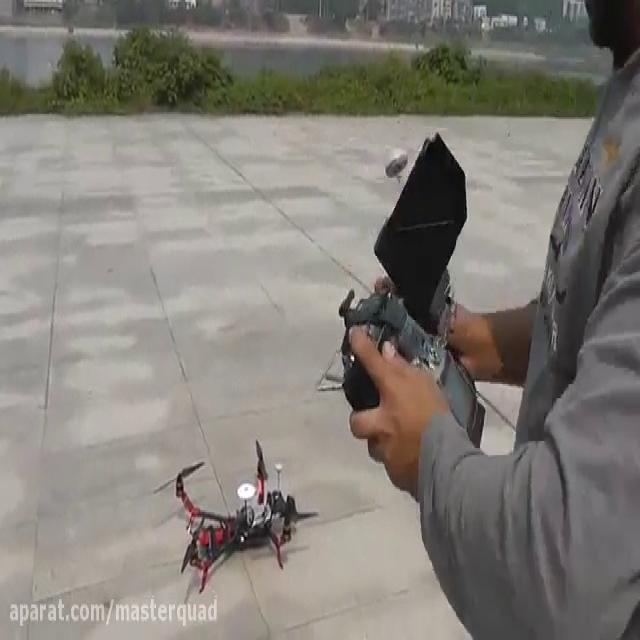drone: (151, 436, 321, 594)
